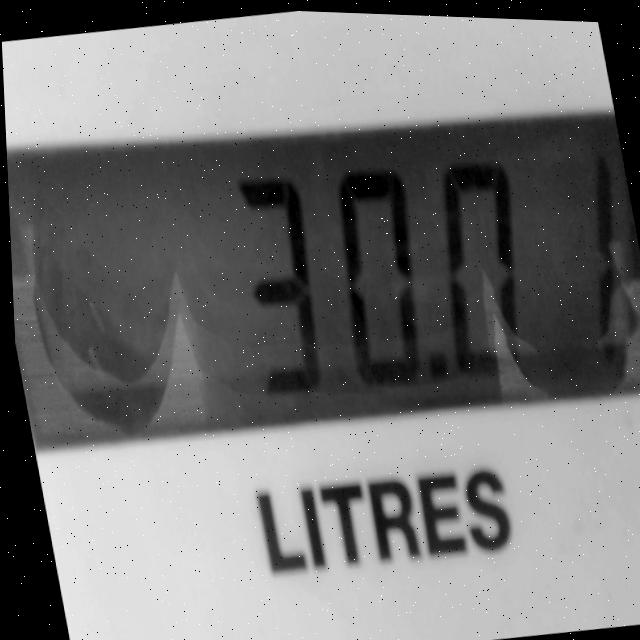.: (429, 351, 444, 379)
0: (423, 155, 539, 376), (324, 163, 429, 378)
1: (566, 148, 639, 366)
3: (229, 165, 334, 395)
